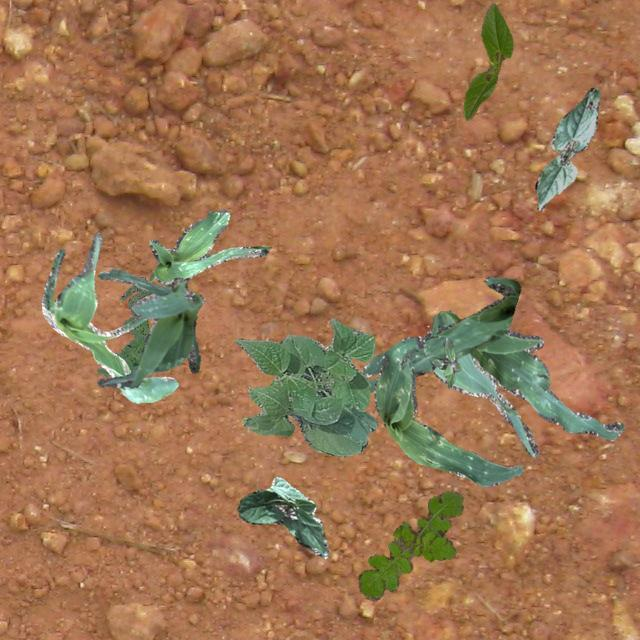crop: (362, 310, 624, 456), (40, 232, 176, 402), (372, 336, 522, 486), (235, 318, 376, 456), (368, 276, 520, 391), (96, 268, 204, 387), (147, 208, 270, 282), (534, 86, 598, 210), (236, 476, 328, 558), (462, 2, 512, 120)
weed: (358, 490, 462, 600), (96, 284, 152, 374), (430, 338, 460, 387)
